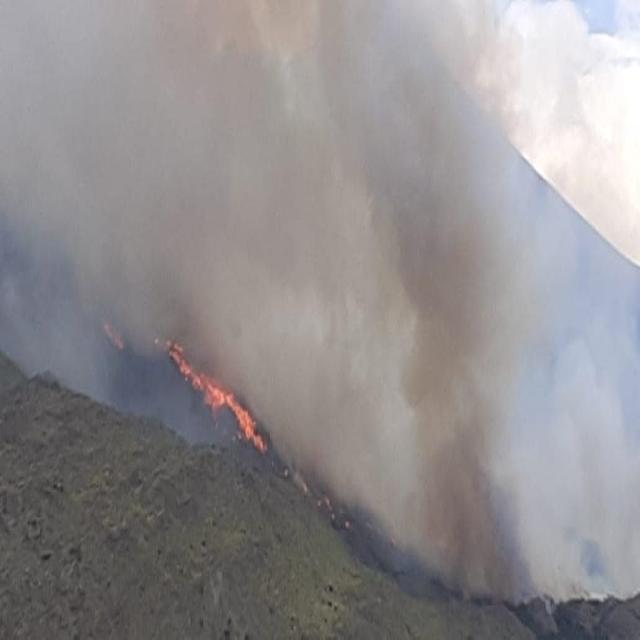Fire: (102, 306, 284, 461)
Smoke: (7, 18, 640, 370), (307, 364, 637, 608)
